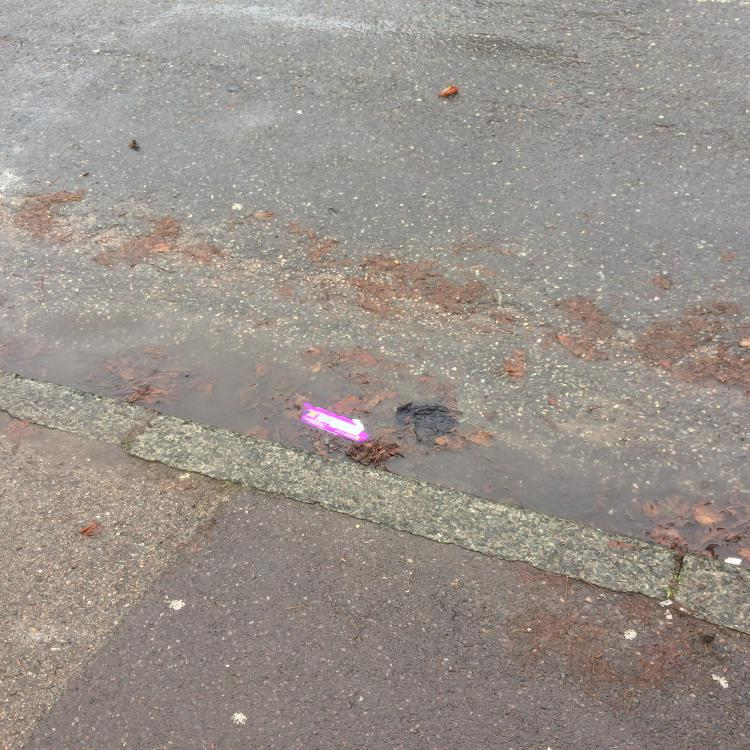Other plastic: (293, 402, 370, 442)
